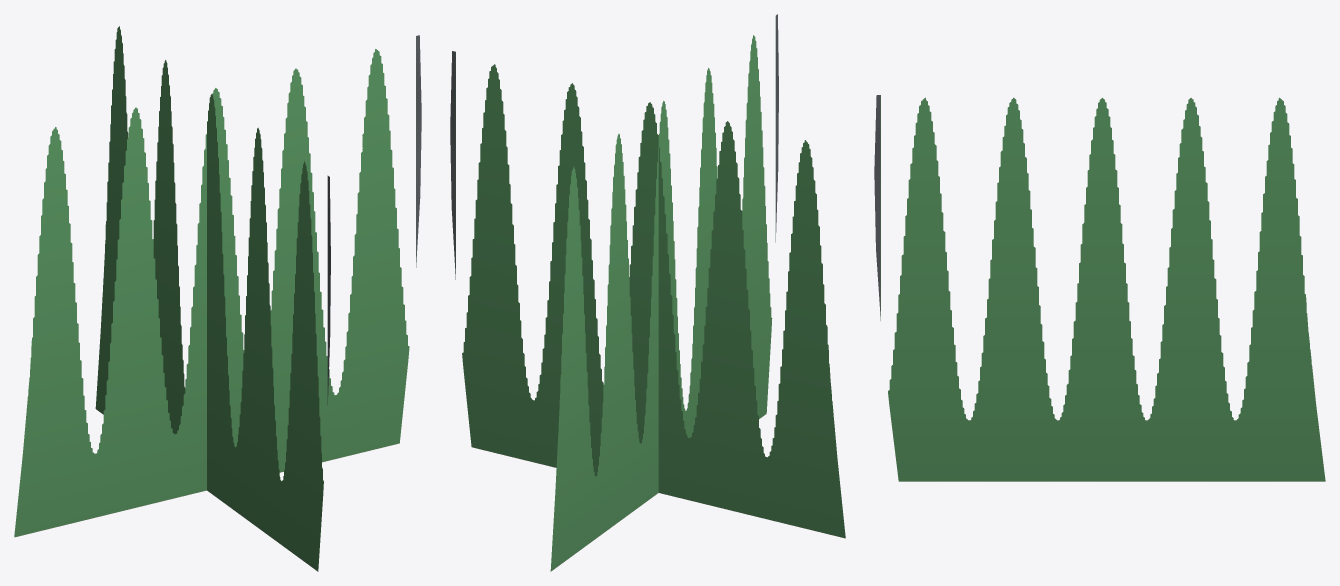
Rendered from grass_tuft_a.glb.
The picture shows the model from 3 angles, left to right: view 1: azimuth 30°, elevation 25°; view 2: azimuth 150°, elevation 25°; view 3: azimuth 270°, elevation 25°; orthographic projection. The views are drawn at different scales.
Visible parts, largest first — view 1: lod0; view 2: lod0; view 3: lod0.
Boxes of the visible parts, x1,y1,x2,y2 form: lod0: [14, 26, 421, 571]; lod0: [450, 14, 845, 571]; lod0: [874, 95, 1325, 481].
Size of the model in its own units: 0.74 by 0.7 by 0.74.
1 material, 1 textured.
